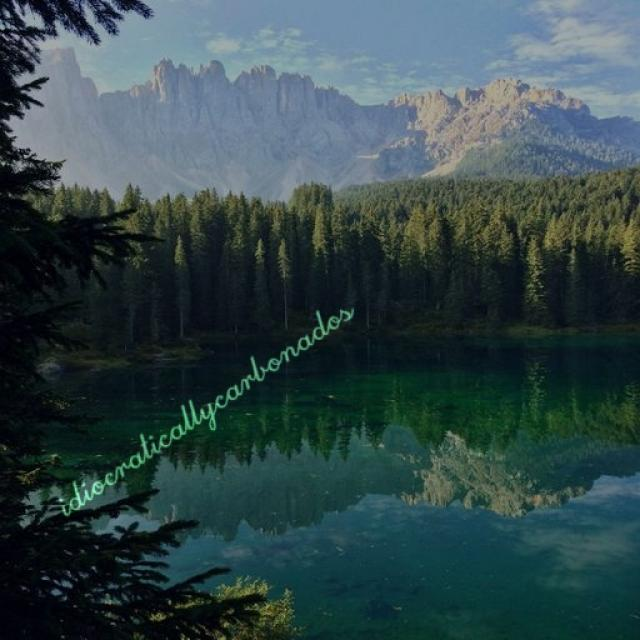watermark: (56, 286, 355, 522)
